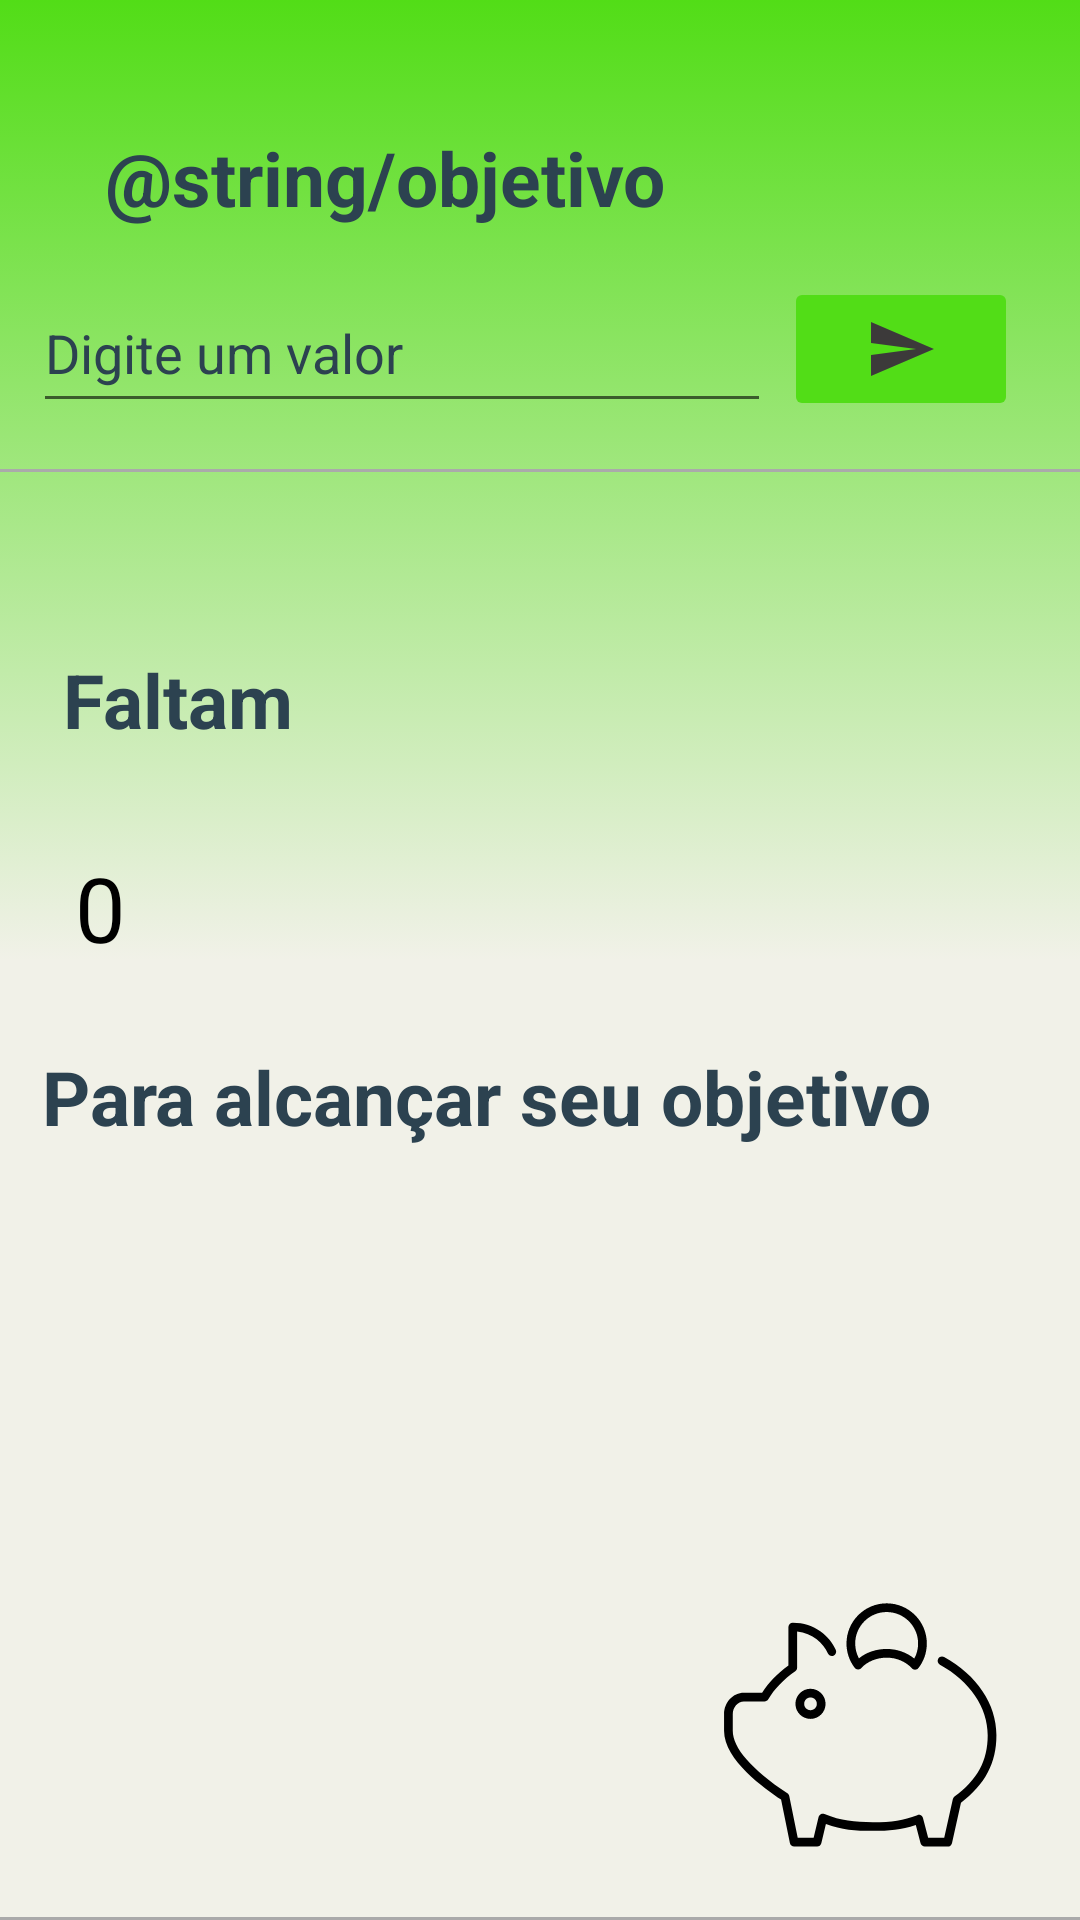

Point at icon controls on the screen. Image size 1080w x 1920h, points as [x,y].
cofre: [860,1725]
send: [901,349]
